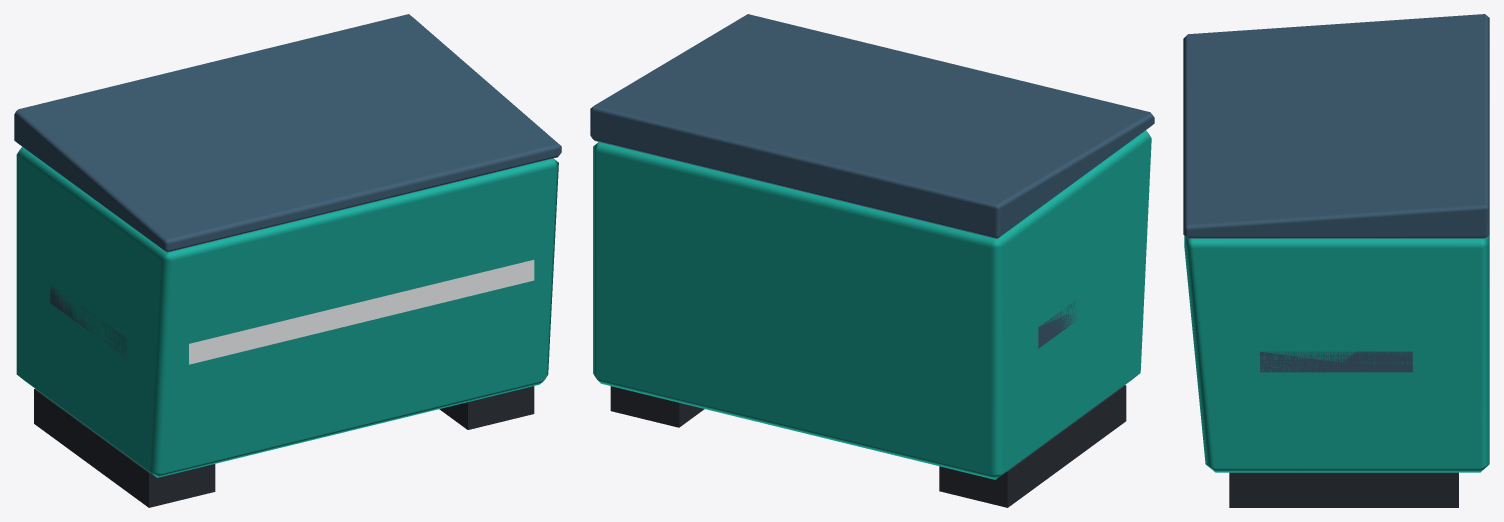
The model's file is CM_Shell_Dumpster.fbx.
3 views of the same model, side by side, from view 1: azimuth 30°, elevation 25°; view 2: azimuth 150°, elevation 25°; view 3: azimuth 270°, elevation 25° (orthographic). The views are drawn at different scales.
Parts seen in each view (by area): view 1: Body, Lid; view 2: Body, Lid; view 3: Body, Lid.
Boxes of the visible parts, box(x1,y1,x2,y2) form: Body: box(16, 147, 558, 507); Lid: box(14, 14, 561, 252); Body: box(593, 130, 1151, 507); Lid: box(590, 14, 1154, 238); Body: box(1184, 235, 1489, 507); Lid: box(1183, 14, 1489, 238).
Bounding box in the file's own units: 6 × 4 × 4.4.
1 material, 1 textured.
